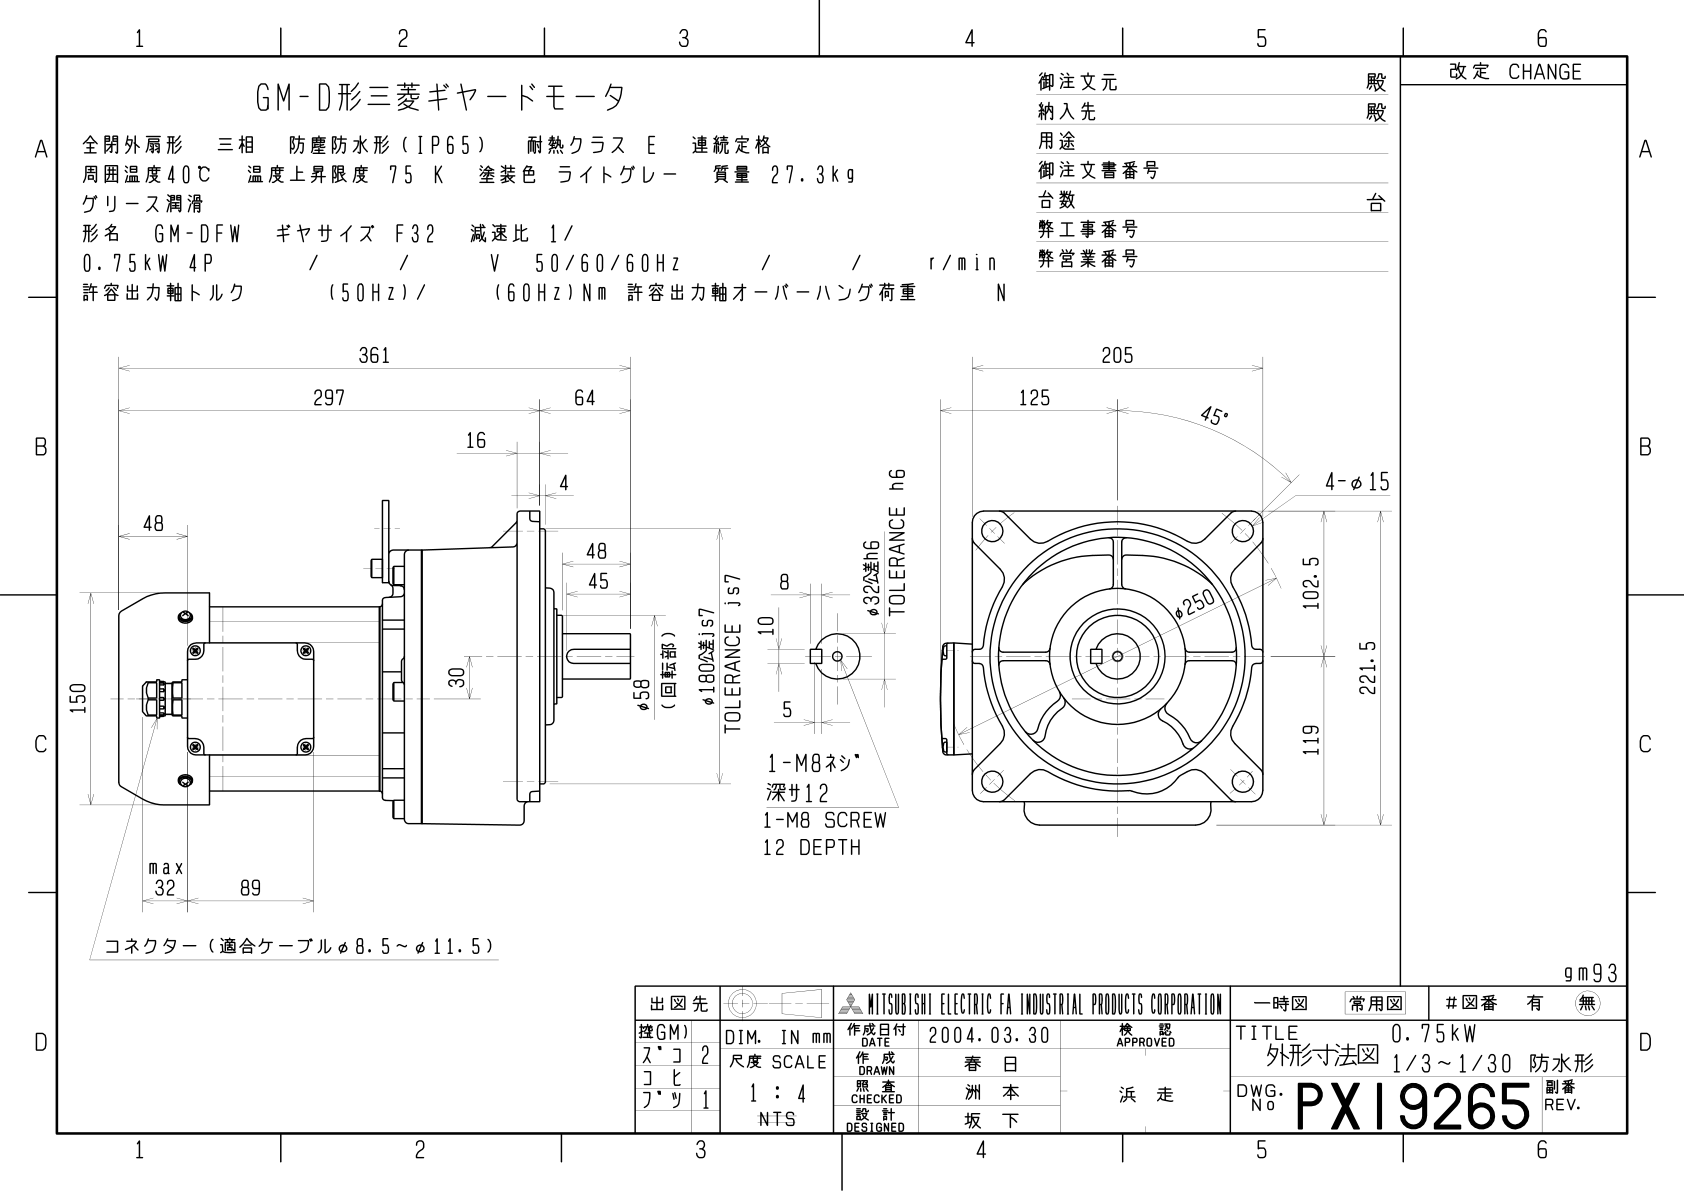GM_D_IP65_三相_フランジ: (12, 10, 1684, 1191)
